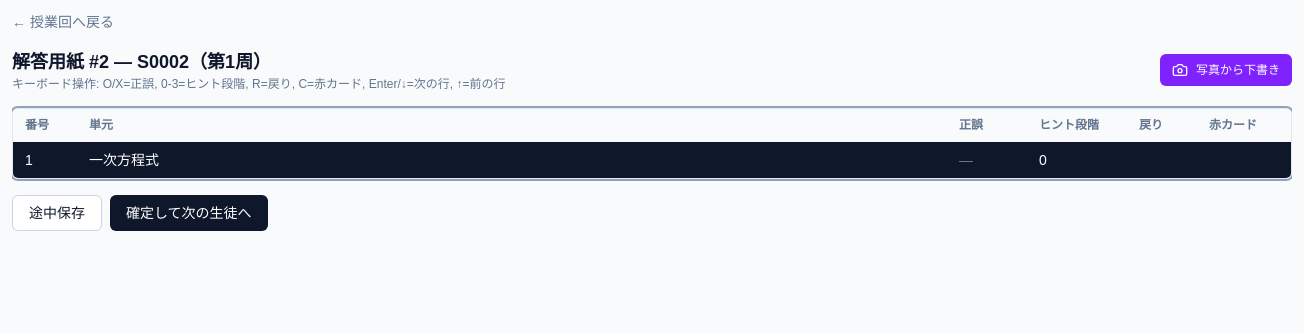
Scenario: AnswerSheetPage keyboard input › shows the contradiction warning returned by the server after saving
Expected: the text "一次方程式" is shown, [89,152,159,168]
Type keys "o"
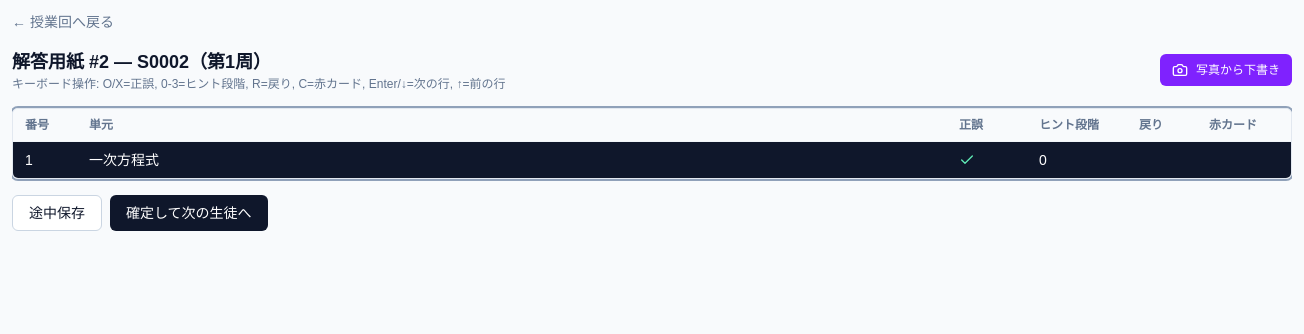
Type keys "c"
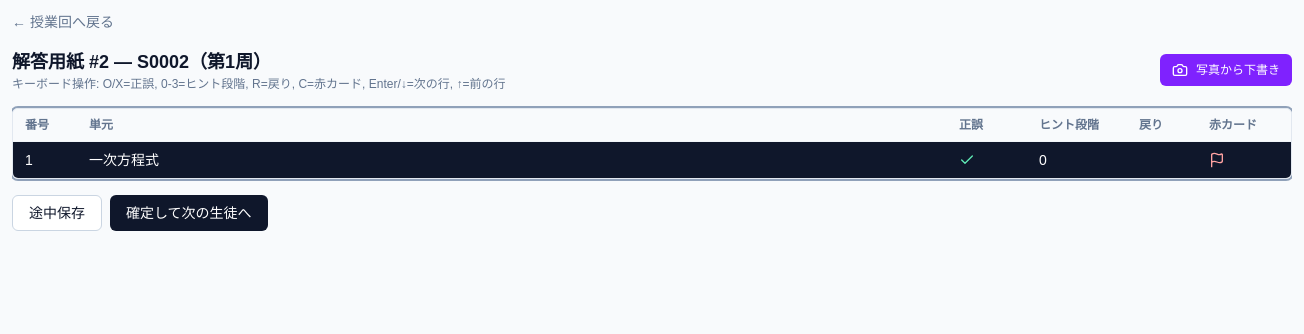
Click the button "途中保存" at (57, 213), box [12,195,102,231]
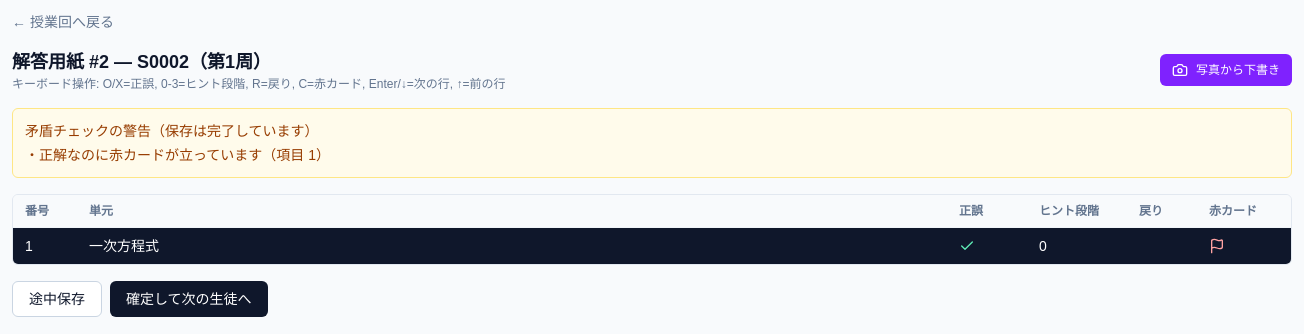
Result: the text "・正解なのに赤カードが立っています（項目 1）" is shown at [25,147,330,163]
